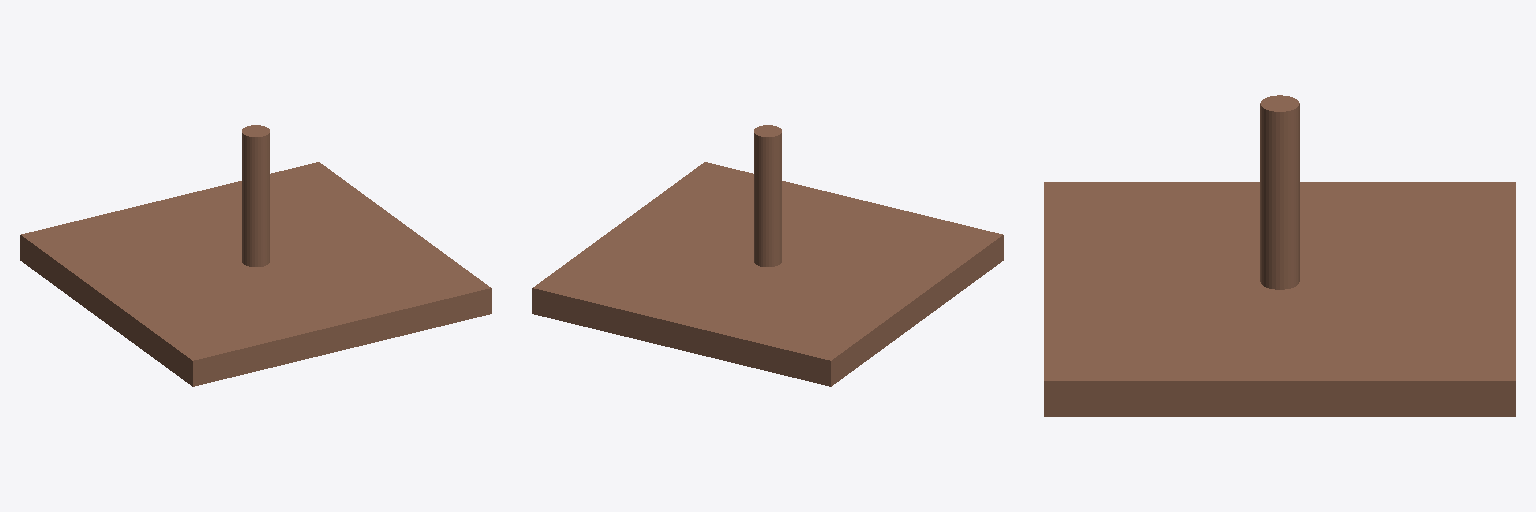
robot.urdf — brown_stand:
<?xml version="1.0" encoding="UTF-8"?>

<robot name="brown_stand">
  <link name="baseLink">
    <inertial>
      <origin rpy="0 0 0" xyz="0 0 0"/>
      <mass value=".1"/>
      <inertia ixx="1" ixy="0" ixz="0" iyy="1" iyz="0" izz="1"/>
    </inertial>

    <visual>
      <origin rpy="0 0 0" xyz="0 0 0.03"/>
      <geometry>
        <cylinder radius=".005" length="0.05"/>
      </geometry>
      <material name="brown">
        <color rgba="0.612 0.459 0.373 1"/>
      </material>
    </visual>
    <collision>
      <origin rpy="0 0 0" xyz="0 0 0.03"/>
      <geometry>
        <cylinder radius=".005" length="0.05"/>
      </geometry>
    </collision>

    <visual>
      <origin rpy="0 0 0" xyz="0 0 0"/>
      <geometry>
        <box size=".12 .12 .01"/>
      </geometry>
      <material name="brown">
        <color rgba="0.612 0.459 0.373 1"/>
      </material>
    </visual>
    <collision>
      <origin rpy="0 0 0" xyz="0 0 0"/>
      <geometry>
        <box size=".12 .12 .01"/>
      </geometry>
    </collision>
  </link>
</robot>

--- Render facts (derived) ---
3 views of the same robot in one strip: view 1: azimuth 30°, elevation 25°; view 2: azimuth 150°, elevation 25°; view 3: azimuth 270°, elevation 25° (orthographic).
Robot: brown_stand — 1 links, 0 joints (none); root link baseLink; default pose: every joint at zero.
Links seen in each view (by area): view 1: baseLink; view 2: baseLink; view 3: baseLink.
Boxes of the visible links, left/top/right/bottom form: baseLink: left=20, top=125, right=491, bottom=386; baseLink: left=532, top=125, right=1003, bottom=386; baseLink: left=1044, top=95, right=1515, bottom=416.
Size in the robot's own frame: 0.12 by 0.12 by 0.06 metres.
Geometry: primitives only (box / cylinder / sphere), no mesh files.
